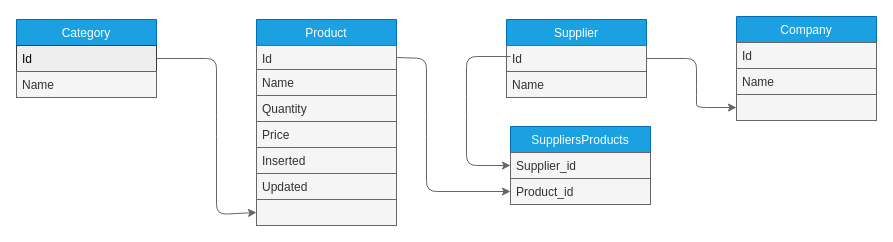
The diagram is 893 pixels wide and 242 high, and some of its shapes have lost their labels. Here are the shapes that lost their labels. From the top down, the centre of each, then its label:
the point at 806,107: SupplierId
the point at 326,212: CategoryId
